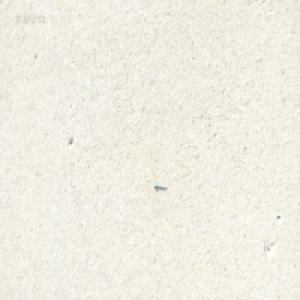Nail: (153, 180, 166, 189)
